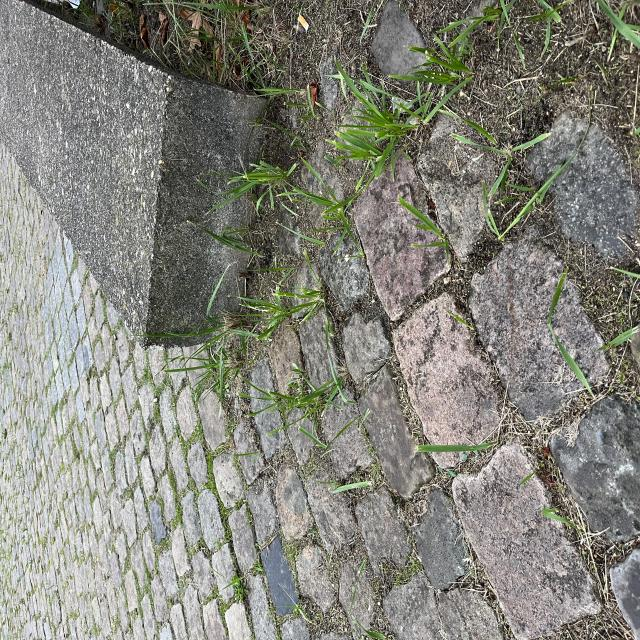weed: (442, 324, 631, 489)
weedling: (50, 126, 290, 239)
